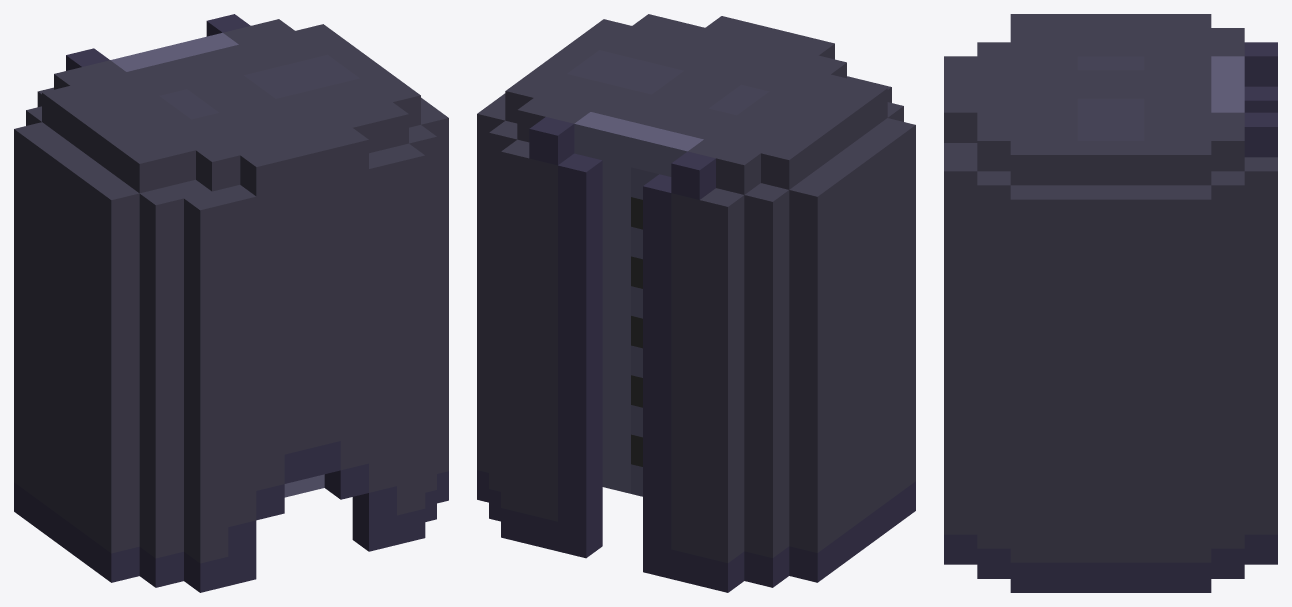
File: Radist-6.obj
The picture shows the model from 3 angles, left to right: view 1: azimuth 30°, elevation 25°; view 2: azimuth 150°, elevation 25°; view 3: azimuth 270°, elevation 25°; orthographic projection. The views are drawn at different scales.
Size of the model in its own units: 1.2 by 1.4 by 1.
1 material, 1 textured.
